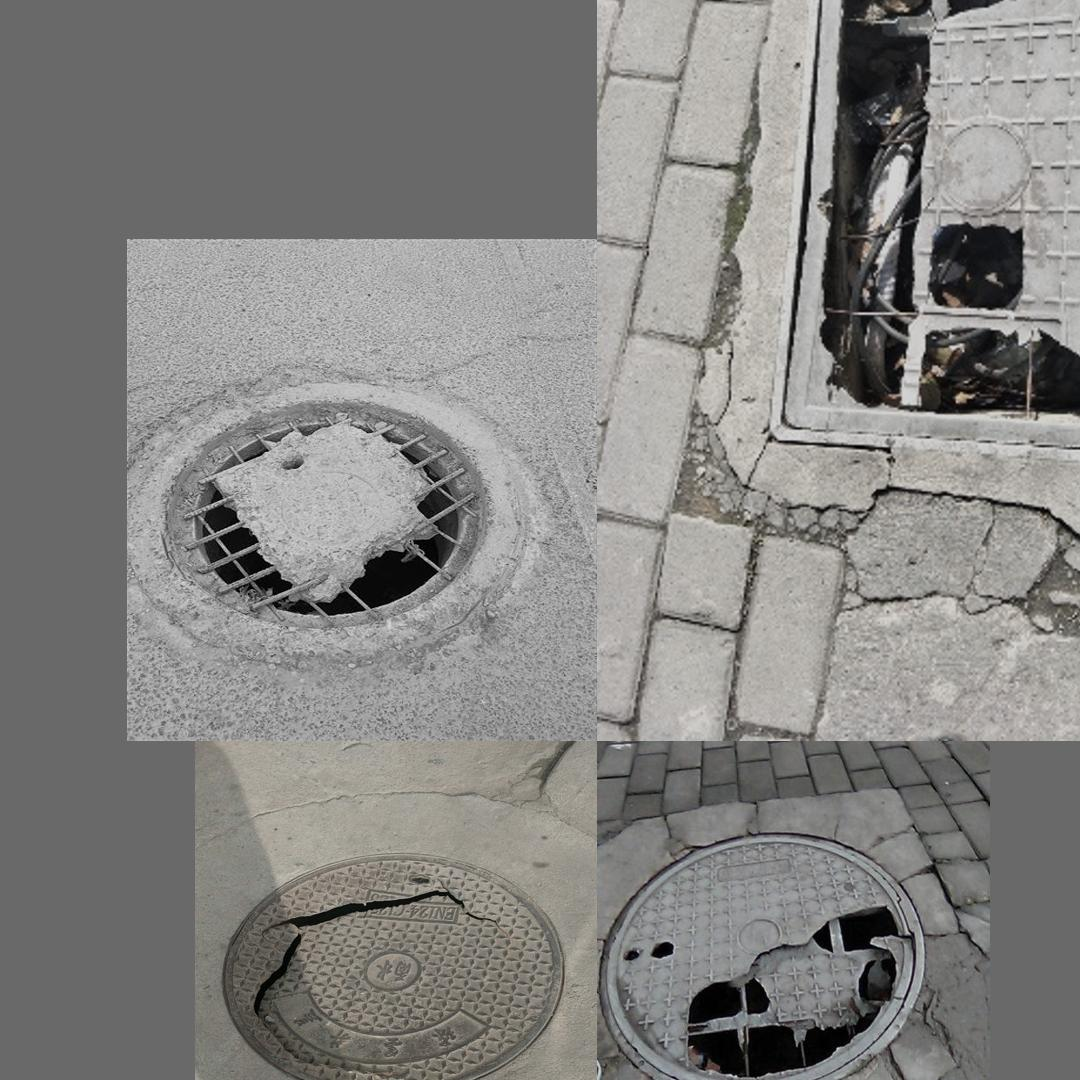broke: (769, 0, 1080, 460), (206, 815, 592, 1080), (144, 375, 508, 652), (605, 815, 942, 1080)
